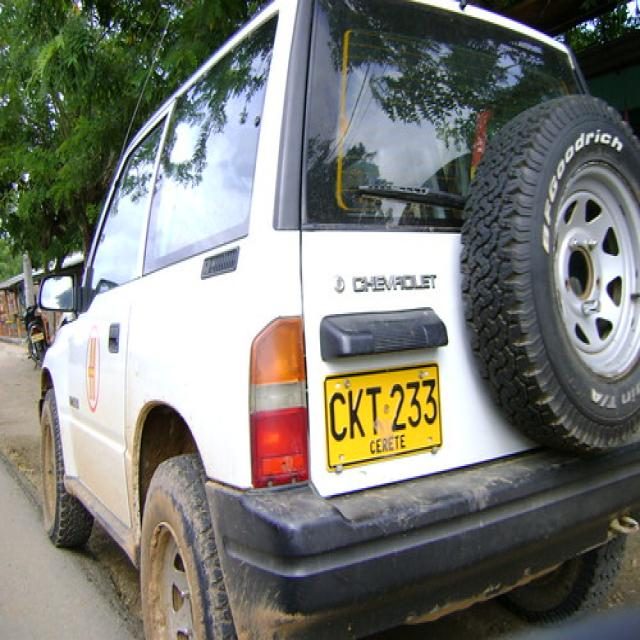placas: (327, 371, 439, 445)
